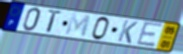0: (21, 7, 42, 32), (91, 16, 111, 41)
E: (135, 21, 165, 49)
K: (116, 19, 139, 45)
M: (63, 12, 92, 39)
T: (45, 9, 64, 34)
